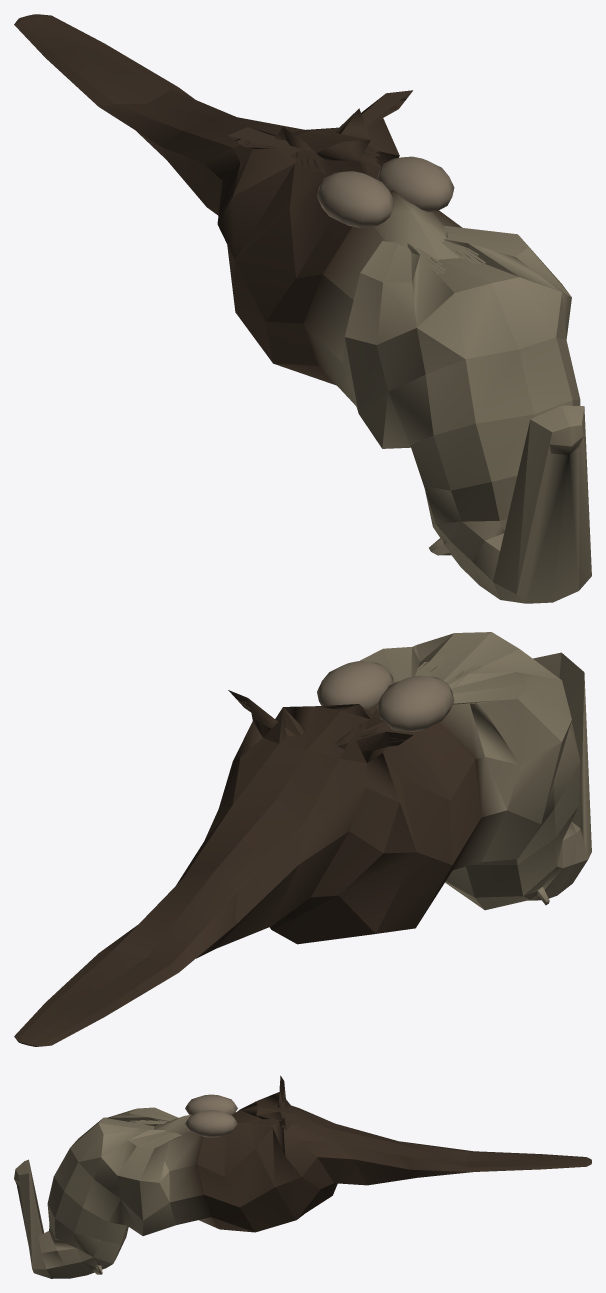
Rendered from otter.glb.
3 renders of one model, top to bottom at view 1: azimuth 30°, elevation 25°; view 2: azimuth 150°, elevation 25°; view 3: azimuth 270°, elevation 25°, orthographic. The views are drawn at different scales.
Visible parts, largest first — view 1: otter, otter / folded chest paw, otter / folded chest paw.001; view 2: otter, otter / folded chest paw, otter / folded chest paw.001; view 3: otter, otter / folded chest paw.001, otter / folded chest paw.
Part boxes in pixels (x1,y1,x2,y2): otter: (14,14,591,603); otter / folded chest paw: (317,171,393,227); otter / folded chest paw.001: (377,156,454,211); otter: (14,632,591,1046); otter / folded chest paw: (376,675,454,731); otter / folded chest paw.001: (317,661,393,710); otter: (14,1075,591,1278); otter / folded chest paw.001: (185,1110,237,1137); otter / folded chest paw: (185,1094,237,1114).
Bounding box in the file's own units: 0.2767 × 0.4004 × 1.2.
